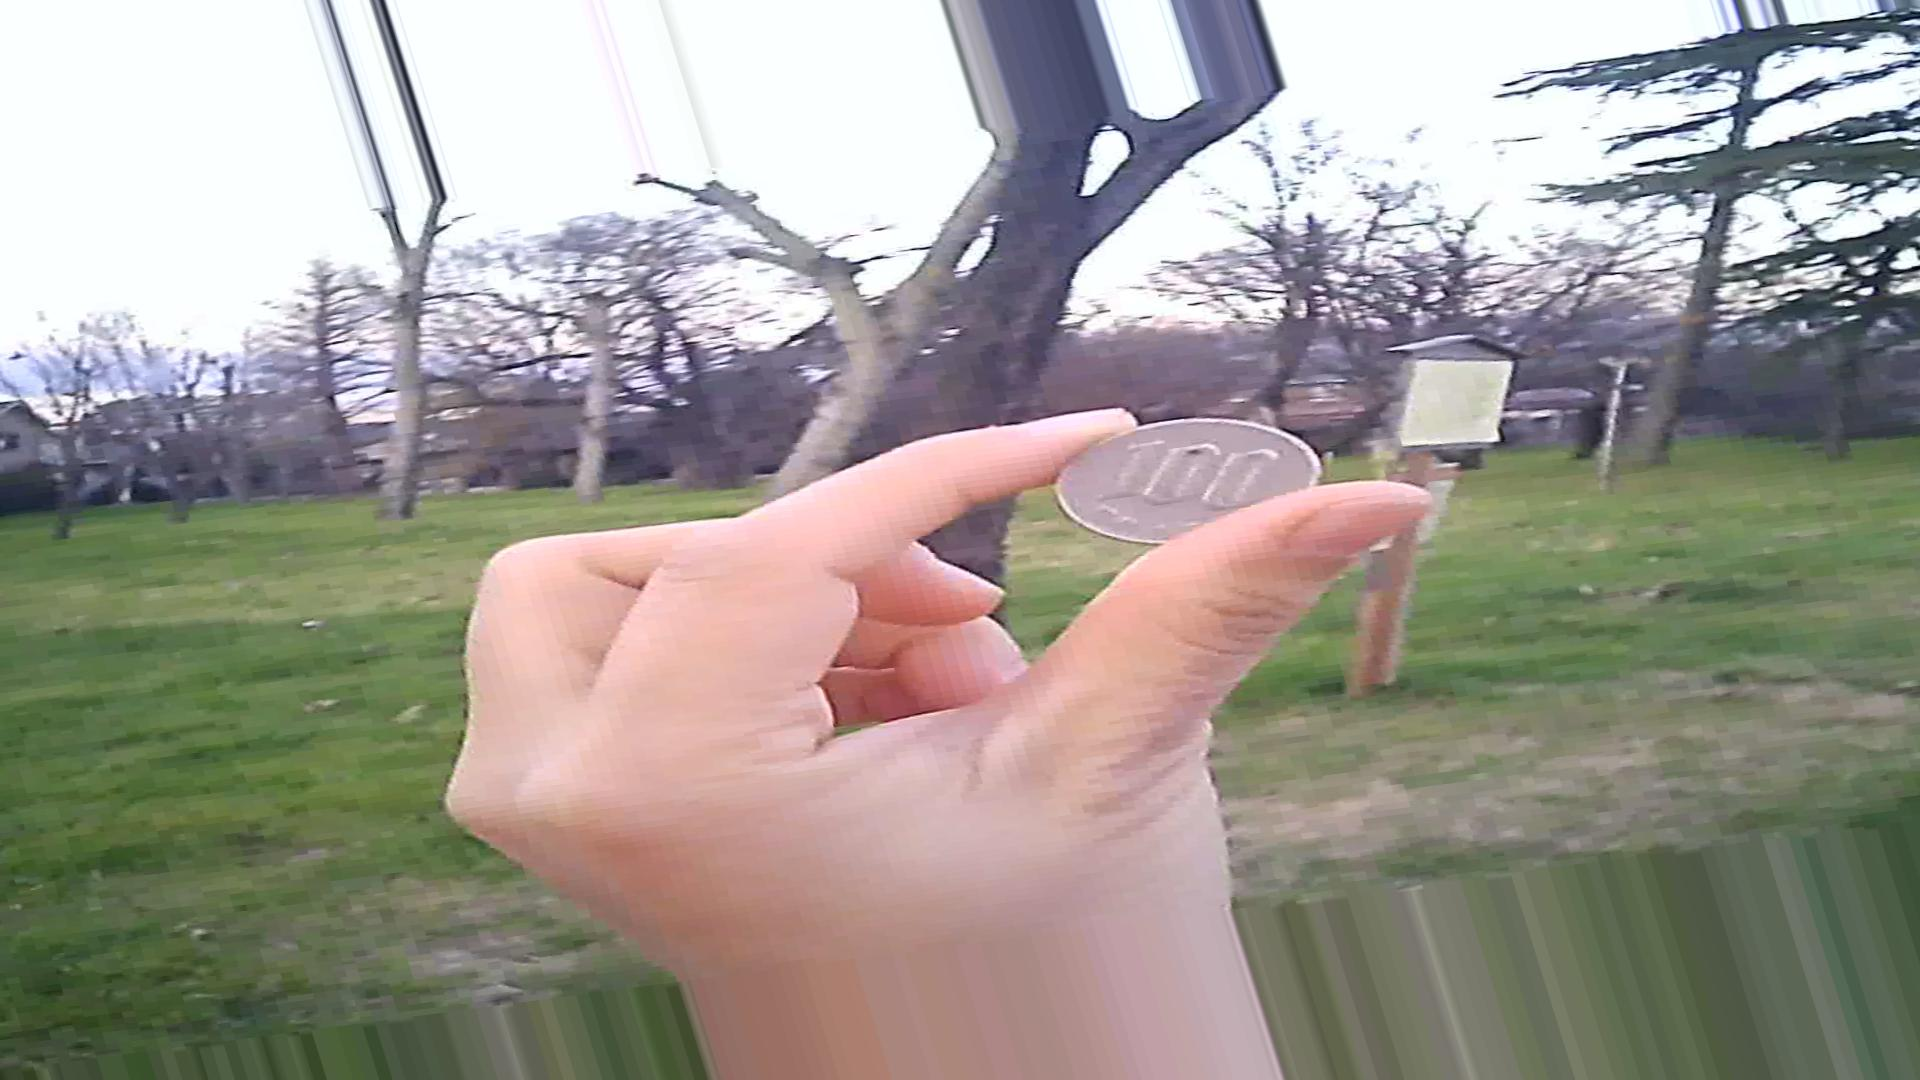100 Yen: (1060, 413, 1325, 566)
